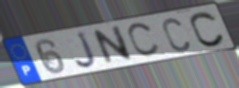6: (34, 38, 68, 76)
C: (189, 10, 227, 48), (126, 21, 162, 59), (161, 17, 192, 54)
J: (74, 30, 99, 70)
N: (91, 24, 136, 67)
